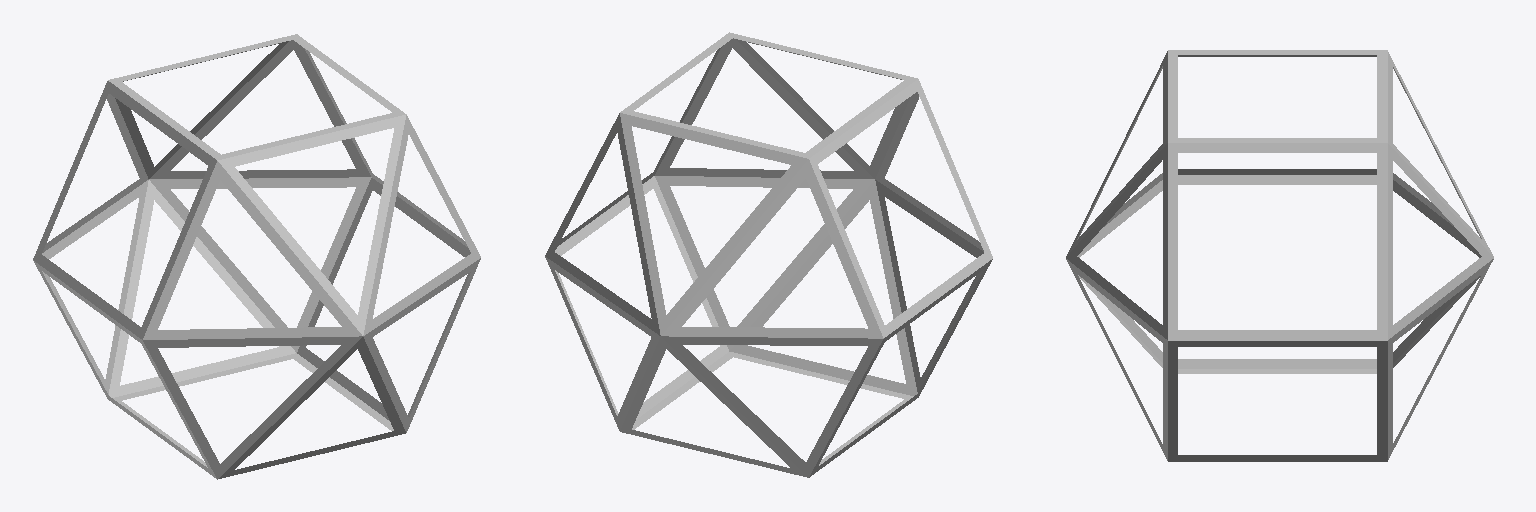
The model's file is amethyst.obj.
The picture shows the model from 3 angles: view 1: azimuth 30°, elevation 25°; view 2: azimuth 150°, elevation 25°; view 3: azimuth 270°, elevation 25°; orthographic projection.
Visible parts, largest first — view 1: Cube; view 2: Cube; view 3: Cube.
Part boxes in pixels (bbox=[...]): Cube: bbox=[33, 34, 480, 479]; Cube: bbox=[545, 32, 992, 477]; Cube: bbox=[1066, 50, 1493, 461].
Bounding box in the file's own units: 2 × 1.8 × 2.19.